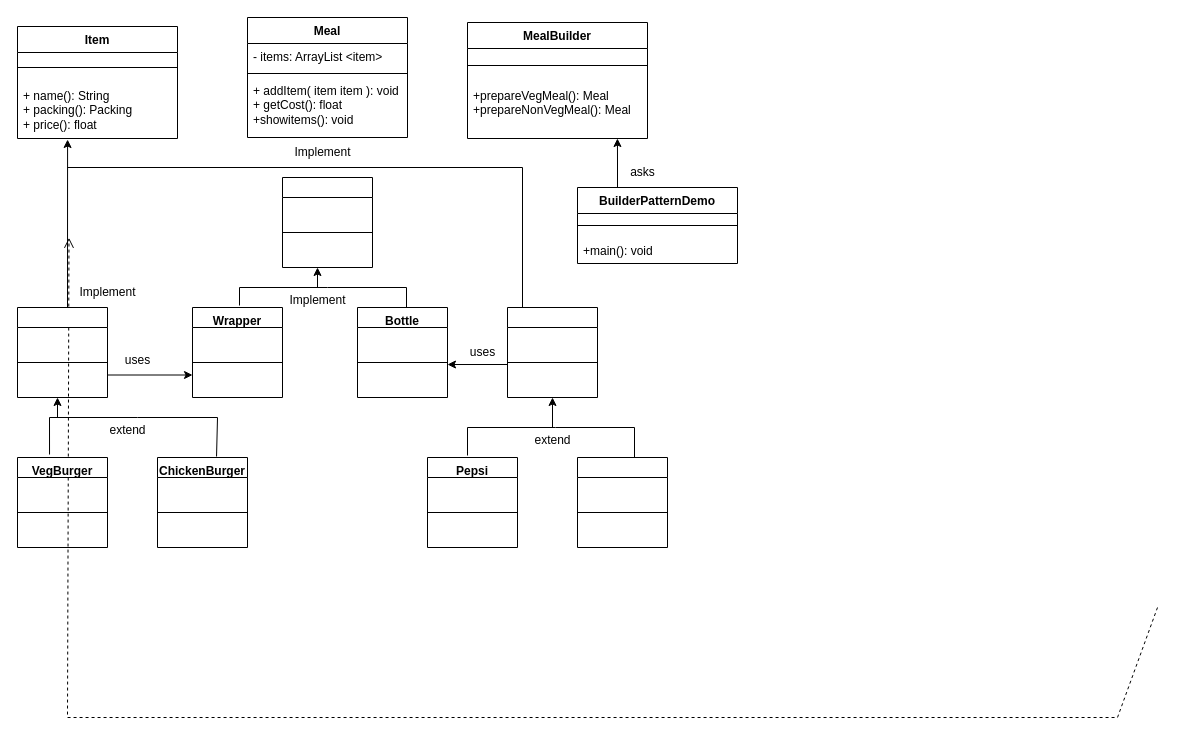
Image size: 1185x745. Some labels were removed from this diagram. Here are the shapes that lost their labels. From the top down, the centre of each, then its label:
At (x=327, y=222): "Packing".
At (x=62, y=352): "Burger".
At (x=552, y=352): "ColdDrink".
At (x=622, y=502): "Coke".
